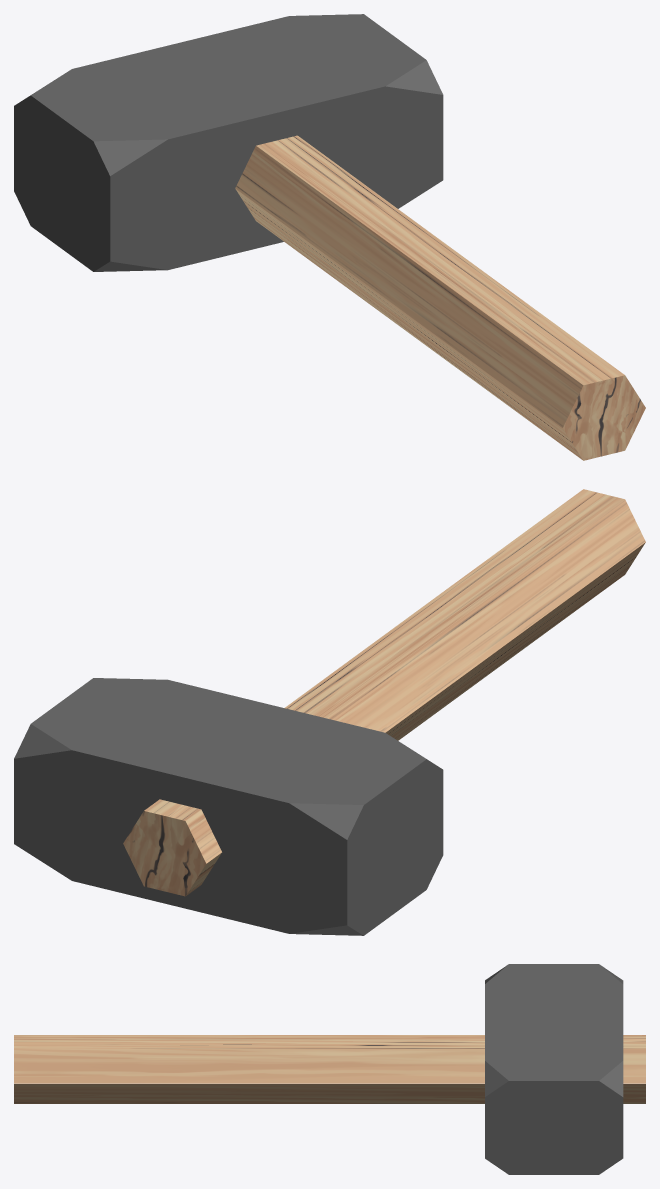
The model's file is hammerGLTF.gltf.
3 renders of one model, top to bottom at view 1: azimuth 30°, elevation 25°; view 2: azimuth 150°, elevation 25°; view 3: azimuth 270°, elevation 25°, orthographic. The views are drawn at different scales.
Visible parts, largest first — view 1: Cube.001, Cylinder; view 2: Cube.001, Cylinder; view 3: Cylinder, Cube.001.
Part boxes in pixels (bbox=[...]): Cube.001: bbox=[14, 14, 443, 271]; Cylinder: bbox=[235, 135, 645, 460]; Cube.001: bbox=[14, 678, 443, 935]; Cylinder: bbox=[123, 489, 645, 896]; Cylinder: bbox=[14, 1035, 645, 1103]; Cube.001: bbox=[485, 964, 623, 1174].
Size of the model in its own units: 2 by 0.75 by 4.57.
Materials: 2 (1 with a texture image).
